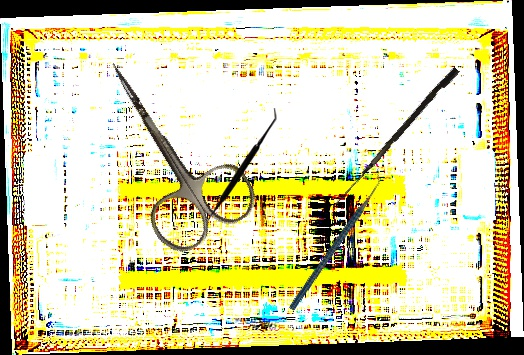Chopper: (253, 166, 418, 312)
Hook Surgical: (335, 64, 460, 211)
Iris Scissors: (69, 34, 264, 262)
Spatula Surgical: (204, 108, 277, 231)
